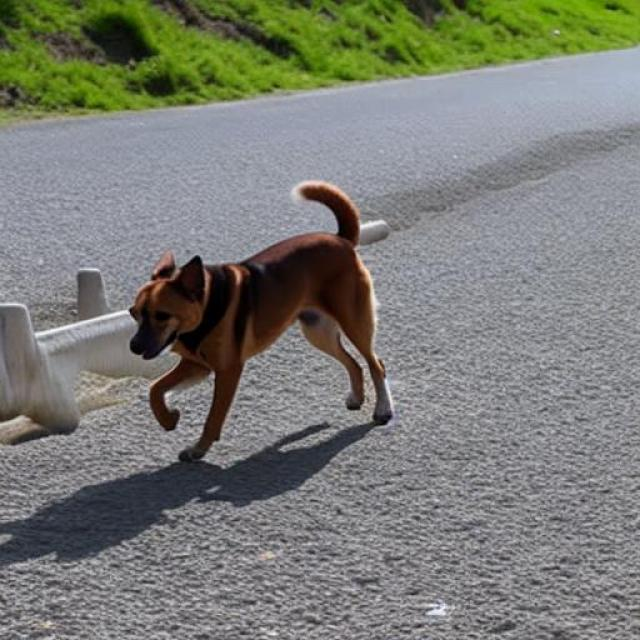Dog: (128, 181, 394, 464)
